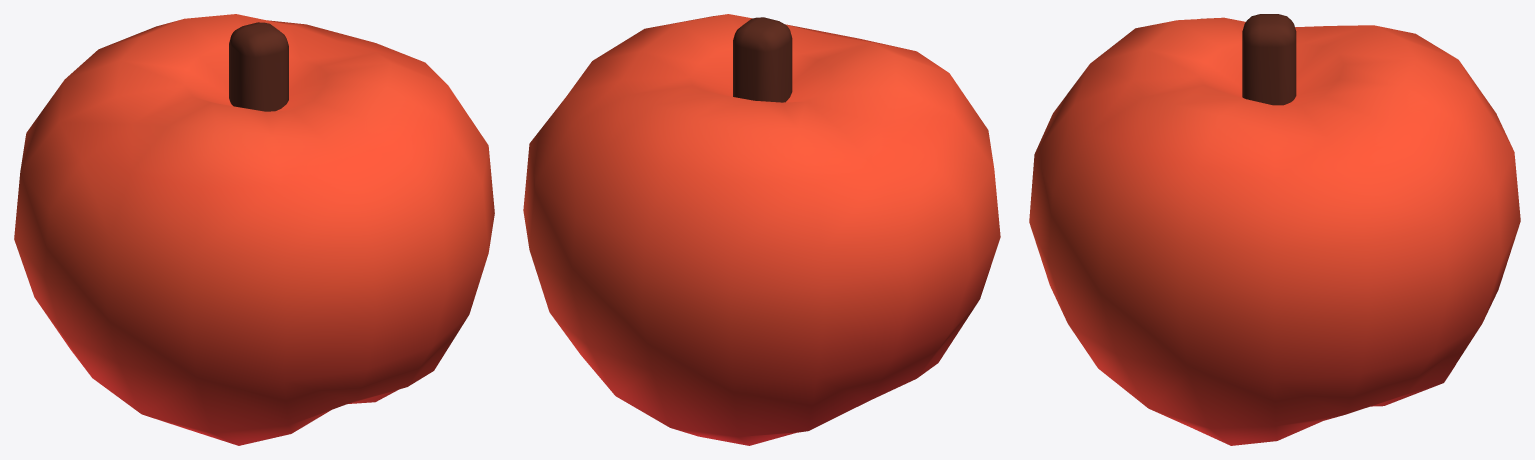
File: Apple.fbx
3 views of the same model, side by side, from view 1: azimuth 30°, elevation 25°; view 2: azimuth 150°, elevation 25°; view 3: azimuth 270°, elevation 25° (orthographic). The views are drawn at different scales.
Parts seen in each view (by area): view 1: Sphere.002; view 2: Sphere.002; view 3: Sphere.002.
Part boxes in pixels (x1,y1,x2,y2): Sphere.002: (14,14,494,445); Sphere.002: (523,14,1000,445); Sphere.002: (1029,14,1520,445).
Size of the model in its own units: 2.08 by 1.79 by 2.08.
